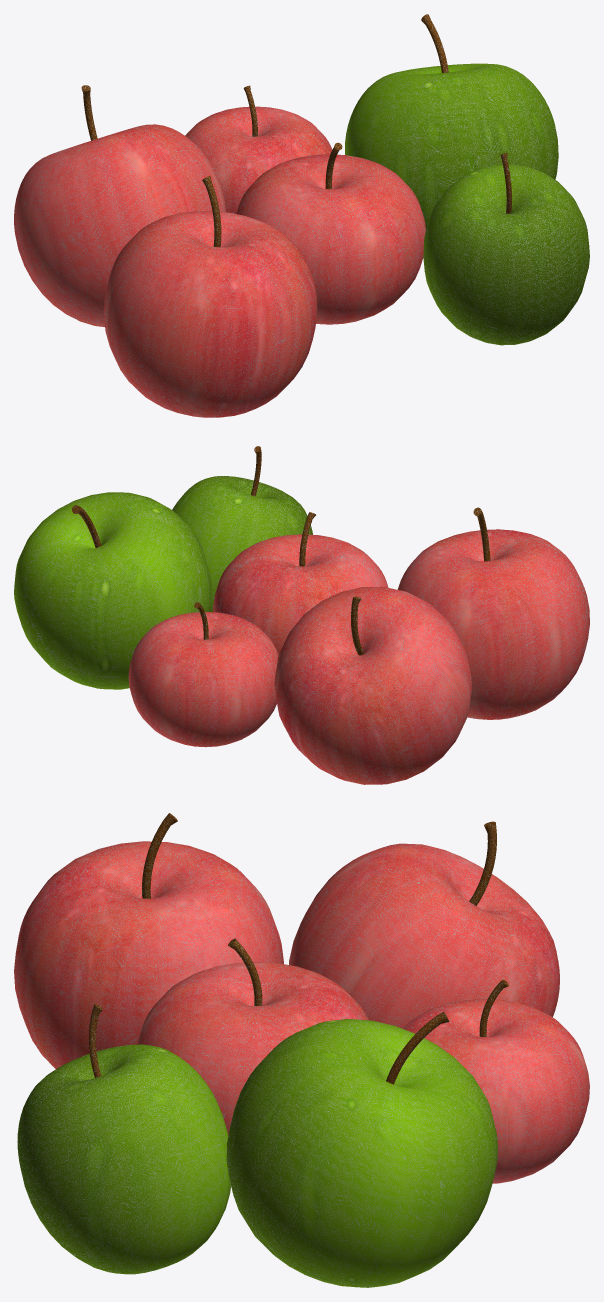
The picture shows the model from 3 angles, top to bottom: view 1: azimuth 30°, elevation 25°; view 2: azimuth 150°, elevation 25°; view 3: azimuth 270°, elevation 25°; orthographic projection. The views are drawn at different scales.
Visible parts, largest first — view 1: SketchUp (×2), group_4, group_2, group_0, group_3, group_1; view 2: SketchUp (×2), group_2, group_4, group_3, group_0; view 3: SketchUp (×2), group_4, group_2, group_3, group_0, group_1 (×3), group_5.
Part boxes in pixels (x1=…): SketchUp (×2): x1=345, y1=63, x2=589, y2=345; group_4: x1=104, y1=211, x2=317, y2=417; group_2: x1=14, y1=124, x2=226, y2=326; group_0: x1=236, y1=154, x2=426, y2=324; group_3: x1=185, y1=106, x2=332, y2=213; group_1: x1=202, y1=176, x2=221, y2=247; SketchUp (×2): x1=14, y1=476, x2=312, y2=689; group_2: x1=274, y1=586, x2=471, y2=784; group_4: x1=397, y1=529, x2=589, y2=719; group_3: x1=128, y1=611, x2=278, y2=747; group_0: x1=213, y1=534, x2=388, y2=654; SketchUp (×2): x1=17, y1=1019, x2=497, y2=1287; group_4: x1=14, y1=841, x2=283, y2=1068; group_2: x1=289, y1=843, x2=559, y2=1028; group_3: x1=403, y1=999, x2=589, y2=1183; group_0: x1=137, y1=962, x2=368, y2=1135; group_1 (×3): x1=142, y1=813, x2=496, y2=1006; group_5: x1=386, y1=1011, x2=449, y2=1084.
Bounding box in the file's own units: 11.01 × 8.51 × 4.61.
Materials: 5 (2 with a texture image).
